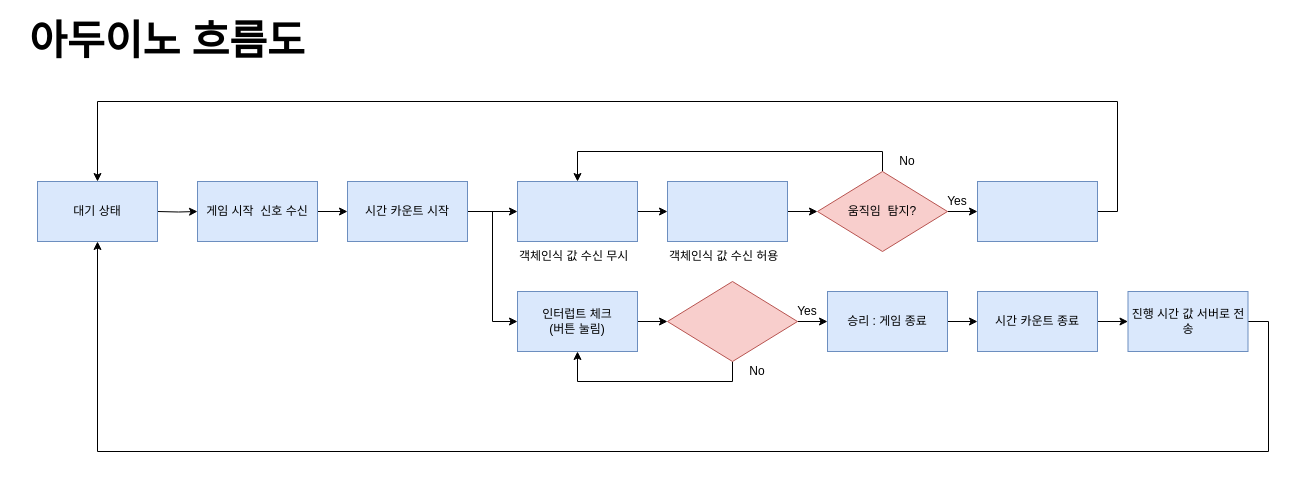
The diagram is 1294 pixels wide and 477 high, and some of its shapes have lost their labels. The centre of each missing label's shape, as x and y in pixels:
Green Light: point 577,211
Red Light: point 727,211
인터럽트 발생?: point 732,321
패배 : 게임 종료: point 1037,211
